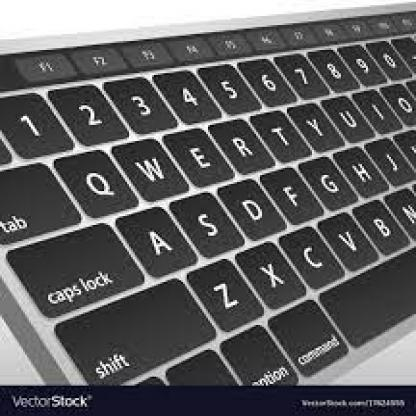mouse: (2, 57, 416, 332)
